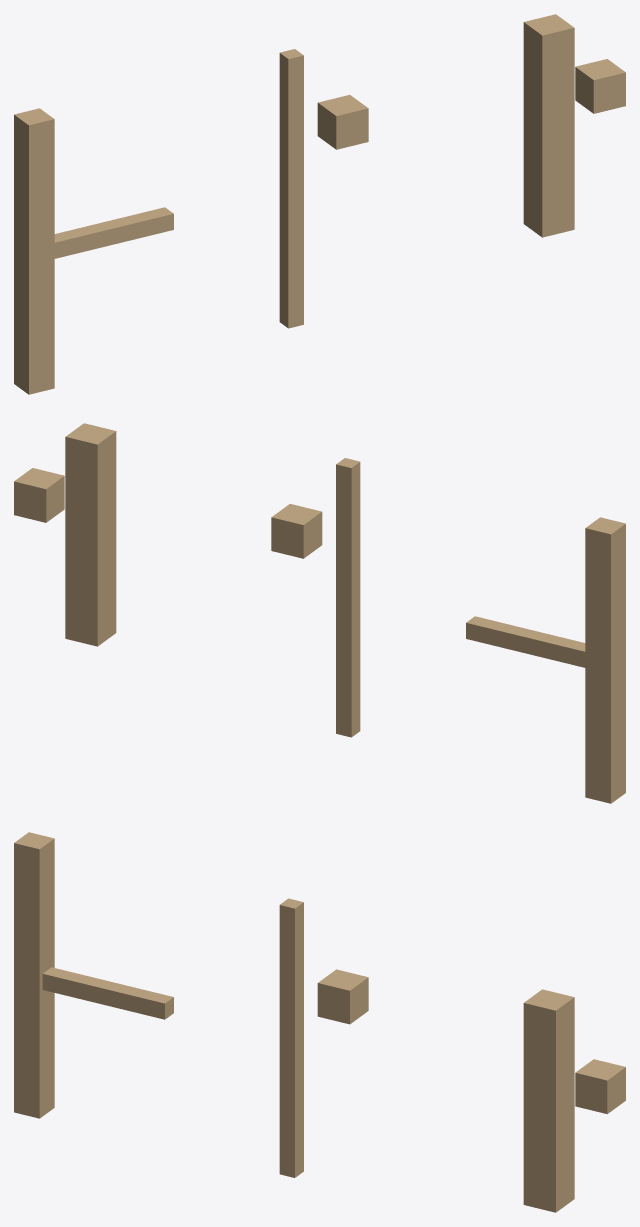
3 views of the same model, one above another, from view 1: azimuth 30°, elevation 25°; view 2: azimuth 150°, elevation 25°; view 3: azimuth 330°, elevation 25° (orthographic).
Visible parts, largest first — view 1: hinge-base, fixed-base, slider-guide, hinge-arm, slider-weight, fixed-piece; view 2: hinge-base, fixed-base, slider-guide, hinge-arm, slider-weight, fixed-piece; view 3: hinge-base, fixed-base, slider-guide, hinge-arm, slider-weight, fixed-piece.
Boxes of the visible parts, <box> form: hinge-base: <box>14,108,54,394</box>; fixed-base: <box>523,14,574,237</box>; slider-guide: <box>279,49,303,328</box>; hinge-arm: <box>54,207,173,258</box>; slider-weight: <box>317,95,368,149</box>; fixed-piece: <box>575,59,625,113</box>; hinge-base: <box>585,517,625,803</box>; fixed-base: <box>65,423,116,646</box>; slider-guide: <box>336,458,360,737</box>; hinge-arm: <box>466,616,585,667</box>; slider-weight: <box>271,504,322,558</box>; fixed-piece: <box>14,468,64,522</box>; hinge-base: <box>14,832,54,1118</box>; fixed-base: <box>523,989,574,1212</box>; slider-guide: <box>279,898,303,1177</box>; hinge-arm: <box>42,967,173,1019</box>; slider-weight: <box>317,969,368,1024</box>; fixed-piece: <box>575,1059,625,1114</box>.
Size of the model in its own units: 4.63 by 2 by 0.25.
